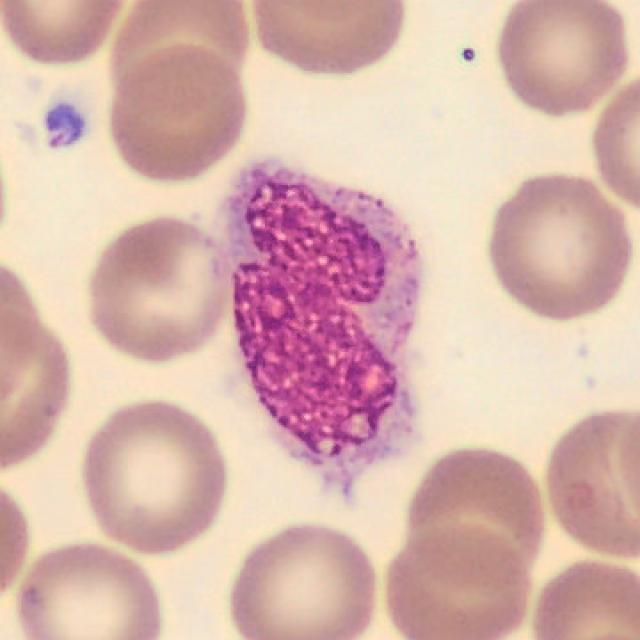Monocito: (215, 162, 418, 487)
